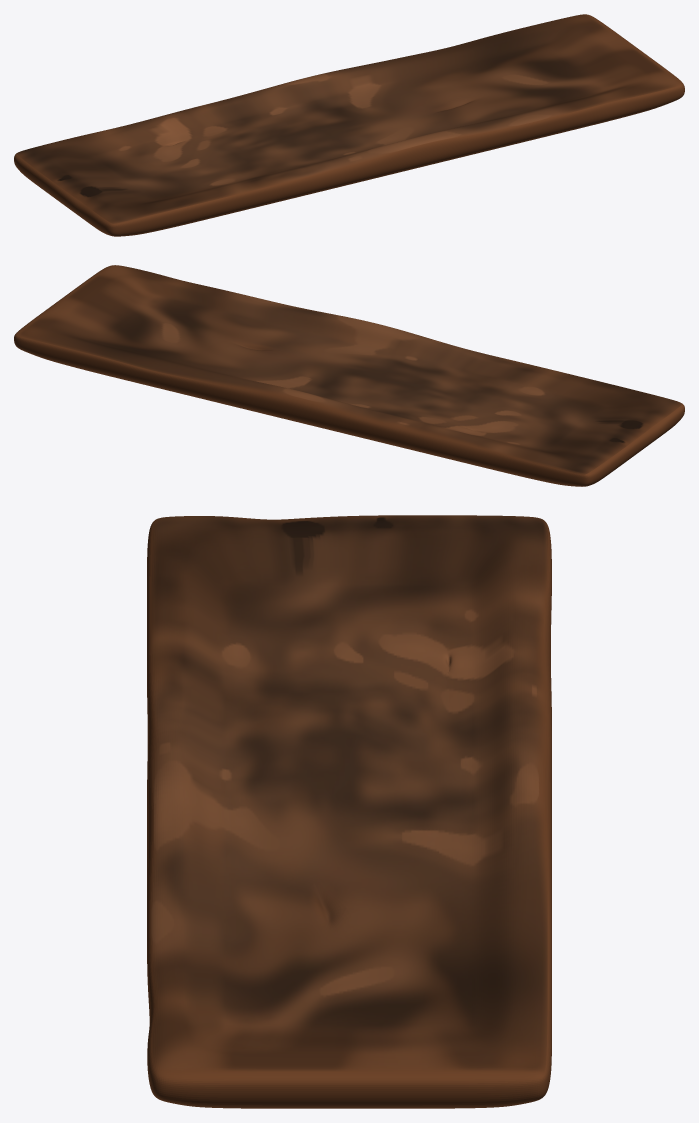
File: Stand.fbx
3 views of the same model, one above another, from view 1: azimuth 30°, elevation 25°; view 2: azimuth 150°, elevation 25°; view 3: azimuth 270°, elevation 25° (orthographic). The views are drawn at different scales.
Visible parts, largest first — view 1: Stand.001; view 2: Stand.001; view 3: Stand.001.
Part boxes in pixels (<box>): Stand.001: <box>14,14,684,236</box>; Stand.001: <box>14,265,684,486</box>; Stand.001: <box>147,515,551,1108</box>.
Size of the model in its own units: 2243 by 135 by 678.
